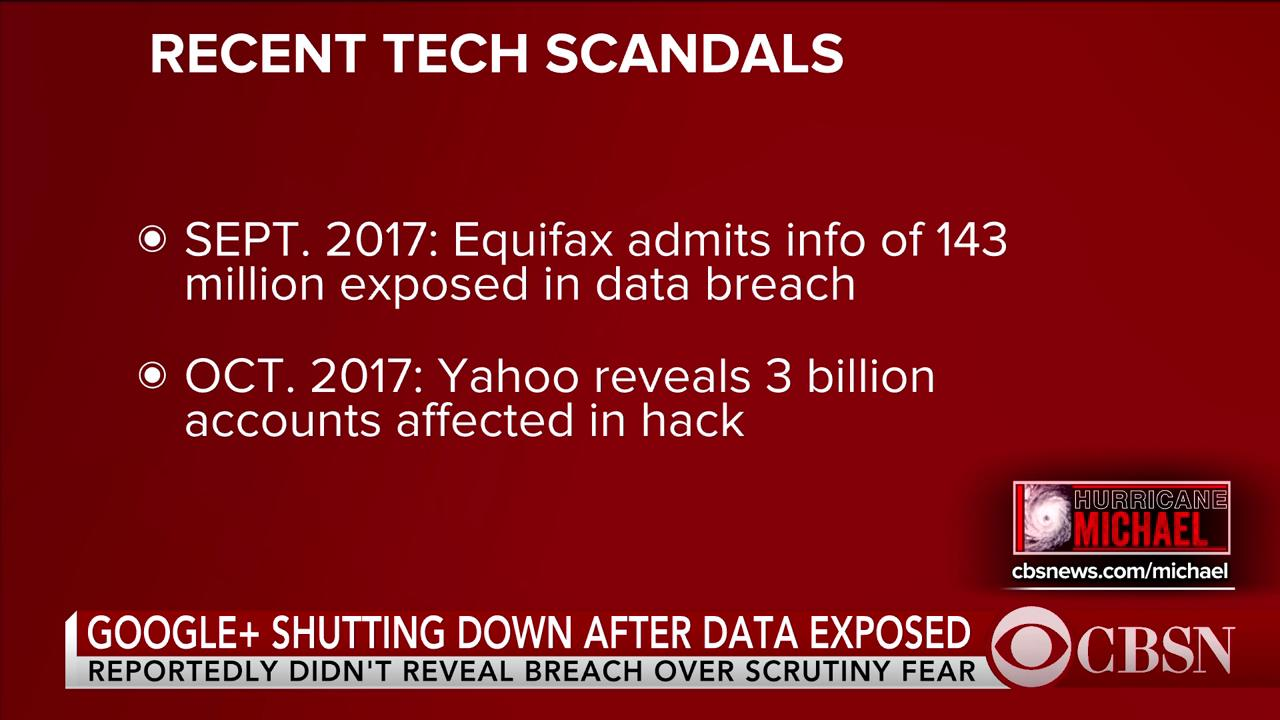CBSN: (1075, 621, 1238, 679)
GOOGLE+ SHUTTING DOWN AFTER DATA EXPOSED: (83, 611, 973, 652)
HURRICANE: (1070, 488, 1226, 511)
MICHAEL: (1072, 509, 1210, 548)
OCT. 2017: Yahoo reveals 3 billion: (181, 352, 938, 398)
RECENT TECH SCANDALS: (146, 27, 848, 75)
REPORTEDLY DIDN'T REVEAL BREACH OVER SCRUTINY FEAR: (86, 657, 978, 685)
SEPT. 2017: Equifax admits info of 143: (179, 215, 1011, 260)
accounts affected in hack: (183, 400, 751, 441)
cbsnews.com/michael: (1010, 558, 1231, 583)
million exposed in data breach: (182, 265, 860, 310)
